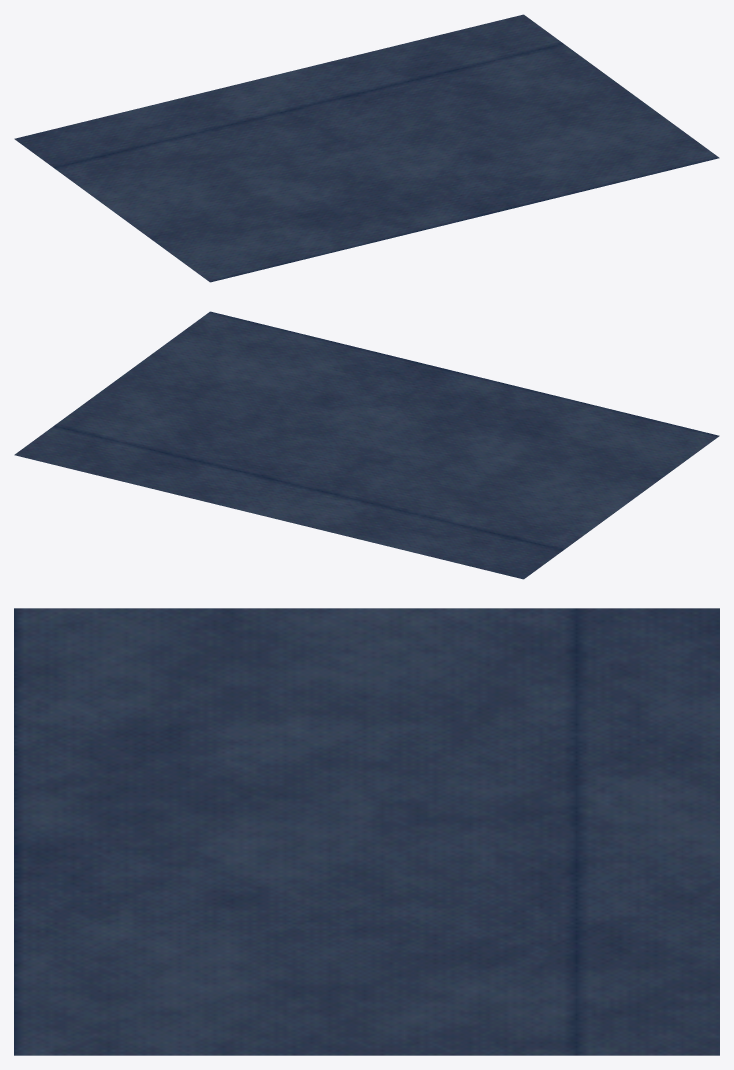
Rendered from lot_road_module.glb.
3 views of the same model, one above another, from view 1: azimuth 30°, elevation 25°; view 2: azimuth 150°, elevation 25°; view 3: azimuth 270°, elevation 25° (orthographic). The views are drawn at different scales.
Visible parts, largest first — view 1: lot_road_module; view 2: lot_road_module; view 3: lot_road_module.
Boxes of the visible parts, x1=… form: lot_road_module: x1=14, y1=14, x2=719, y2=282; lot_road_module: x1=14, y1=311, x2=719, y2=579; lot_road_module: x1=14, y1=608, x2=719, y2=1055.
Size of the model in its own units: 7.5 by 0 by 5.
1 material, 1 textured.
